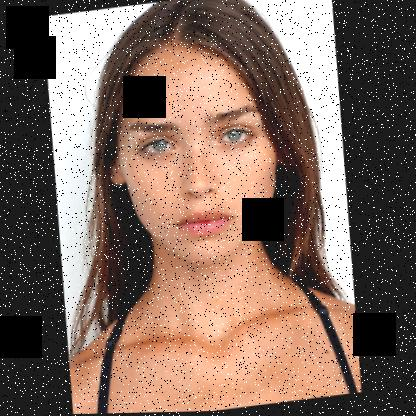Female: (95, 31, 291, 274)
